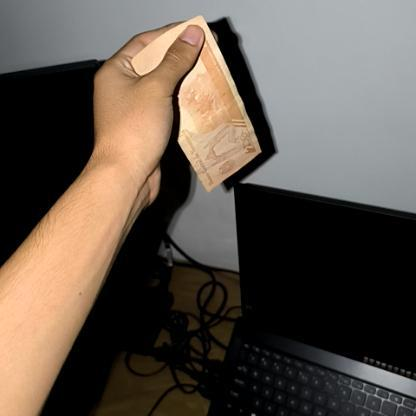vef_back: (119, 13, 263, 192)
